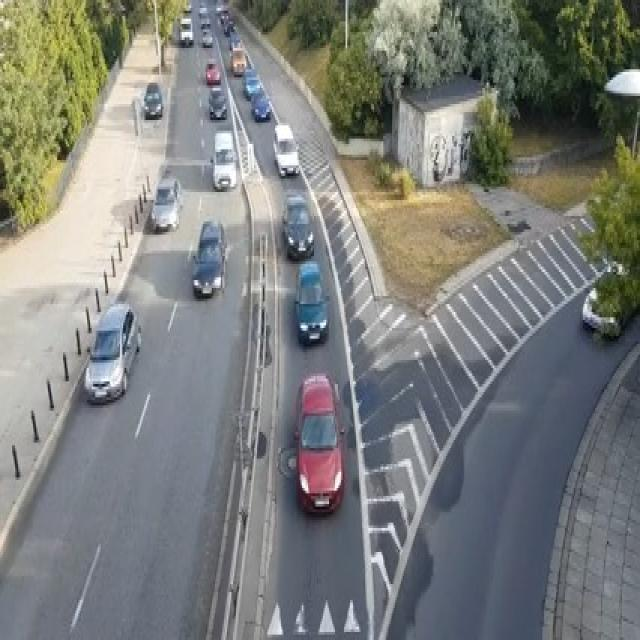car: (290, 370, 345, 514), (84, 301, 141, 403), (293, 259, 327, 344), (191, 219, 225, 296), (581, 285, 622, 339), (281, 192, 314, 259), (150, 176, 182, 232), (210, 131, 236, 189), (272, 123, 299, 176), (143, 80, 162, 117), (207, 85, 227, 120), (251, 91, 272, 120), (242, 72, 261, 99), (230, 45, 246, 75), (179, 16, 194, 45), (204, 58, 220, 82), (228, 32, 242, 51), (222, 18, 235, 34), (214, 0, 228, 13), (201, 30, 212, 46), (200, 16, 210, 29), (198, 3, 208, 16), (220, 8, 228, 24), (183, 0, 191, 11)
